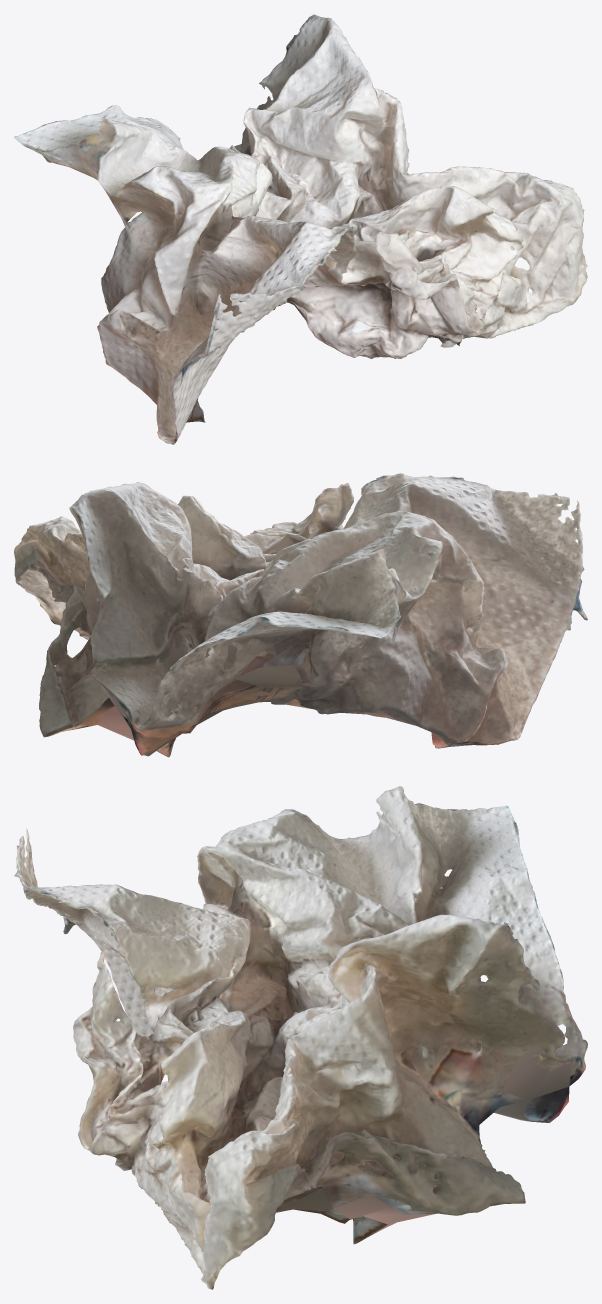
File: paper.glb
The picture shows the model from 3 angles, top to bottom: view 1: azimuth 30°, elevation 25°; view 2: azimuth 150°, elevation 25°; view 3: azimuth 270°, elevation 25°; orthographic projection. The views are drawn at different scales.
Parts seen in each view (by area): view 1: Object_2, Object_3; view 2: Object_2; view 3: Object_2, Object_3.
Part boxes in pixels (x1,y1,x2,y2): Object_2: (14, 14, 587, 444); Object_3: (365, 199, 520, 338); Object_2: (14, 473, 587, 757); Object_2: (14, 786, 587, 1289); Object_3: (79, 982, 479, 1191).
Size of the model in its own units: 0.1225 by 0.0693 by 0.1045.
1 material, 1 textured.
